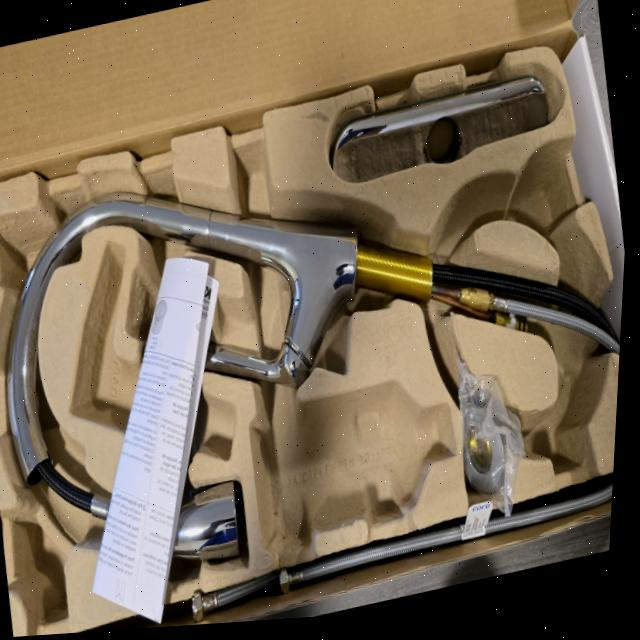1o: (6, 192, 620, 556)
2m: (72, 244, 235, 460)
3m: (251, 378, 458, 547)
4: (330, 74, 549, 181)
5m: (510, 158, 565, 231)
6: (458, 348, 526, 515)
7m: (529, 365, 602, 471)
8: (91, 255, 221, 624)
